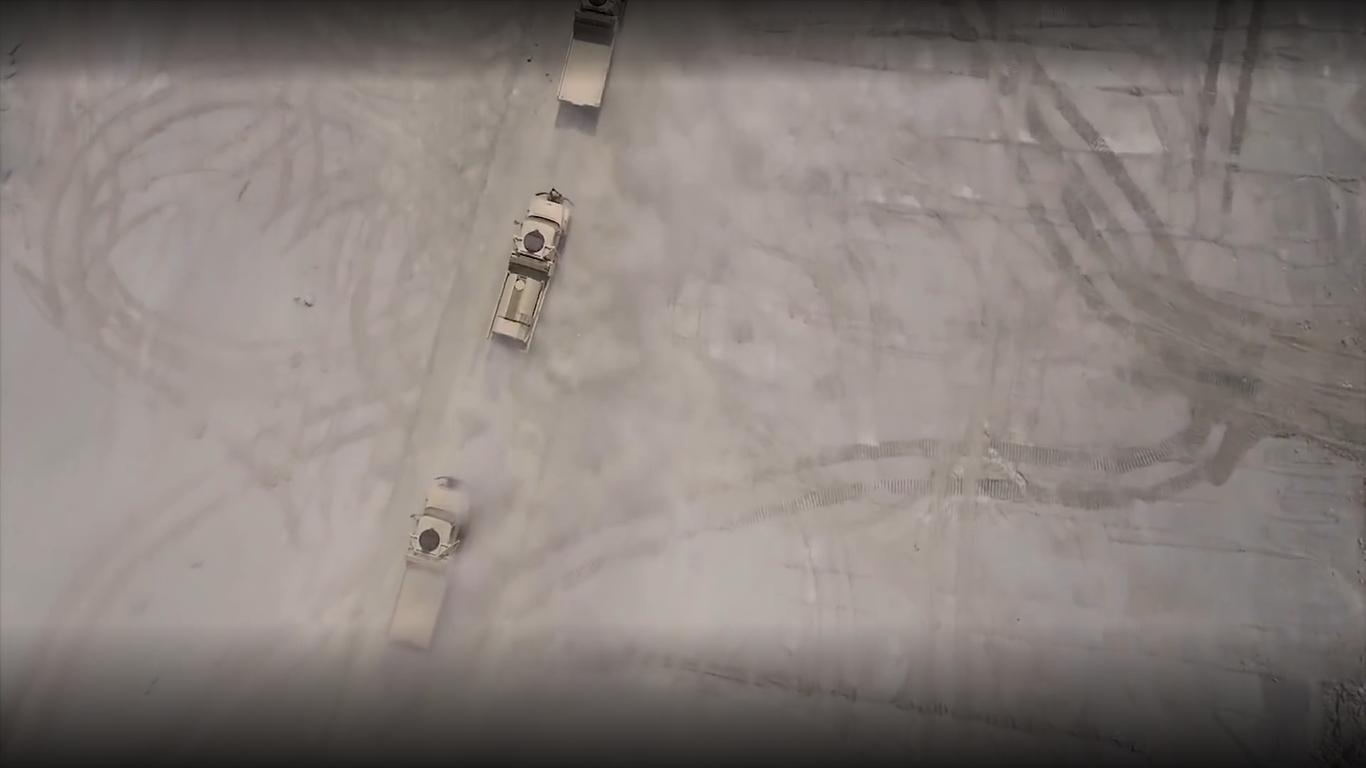truck: (376, 467, 485, 657), (478, 184, 576, 357)
